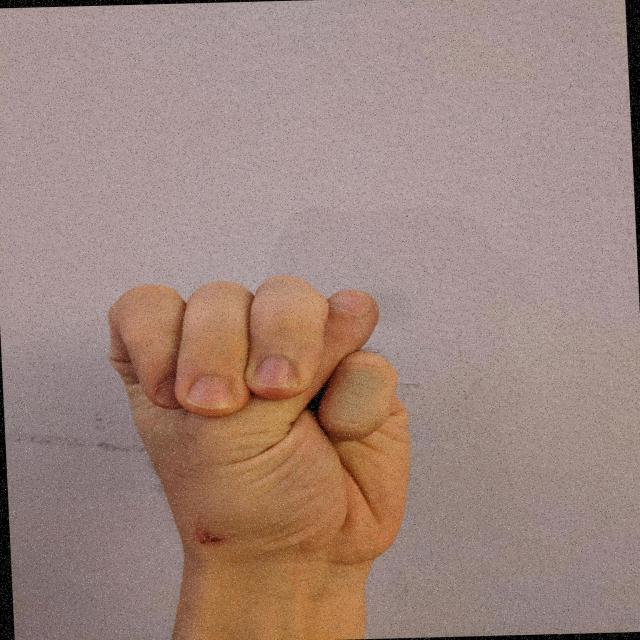M: (90, 267, 431, 576)
